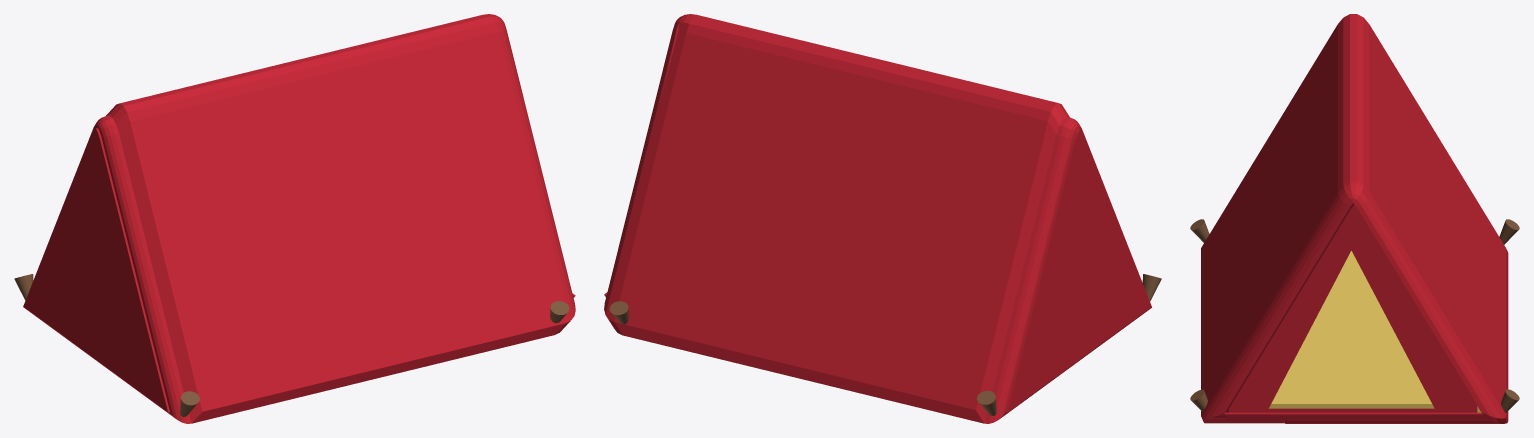
File: Tenda 4.fbx
3 renders of one model, left to right at view 1: azimuth 30°, elevation 25°; view 2: azimuth 150°, elevation 25°; view 3: azimuth 270°, elevation 25°, orthographic. The views are drawn at different scales.
Visible parts, largest first — view 1: Tenda, Pintu Belakang, Cube; view 2: Tenda, Pintu Belakang, Cube; view 3: Tenda, Cube.001, Alas.
Part boxes in pixels (x1,y1,x2,y2): Tenda: [106, 14, 575, 423]; Pintu Belakang: [23, 128, 169, 412]; Cube: [23, 115, 191, 423]; Tenda: [604, 14, 1069, 423]; Pintu Belakang: [1006, 129, 1151, 412]; Cube: [984, 116, 1151, 423]; Tenda: [1201, 14, 1508, 423]; Cube.001: [1229, 205, 1477, 412]; Alas: [1269, 251, 1481, 412].
Size of the model in its own units: 520 by 313 by 382.
